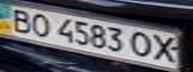3: (106, 25, 130, 54)
4: (51, 16, 75, 43)
5: (69, 19, 90, 47)
8: (87, 22, 109, 50)
B: (3, 6, 39, 34)
O: (127, 29, 157, 58), (24, 11, 54, 38)
X: (148, 33, 181, 64)
